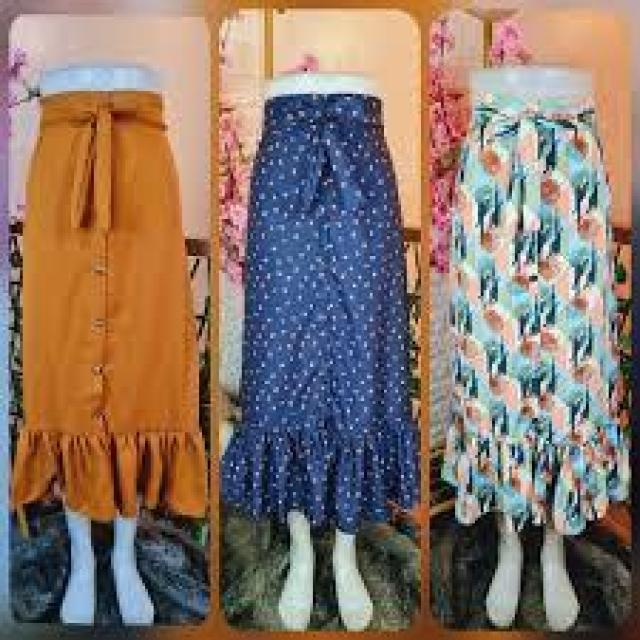skirt: (223, 88, 428, 506), (23, 84, 219, 510), (436, 92, 622, 530)
